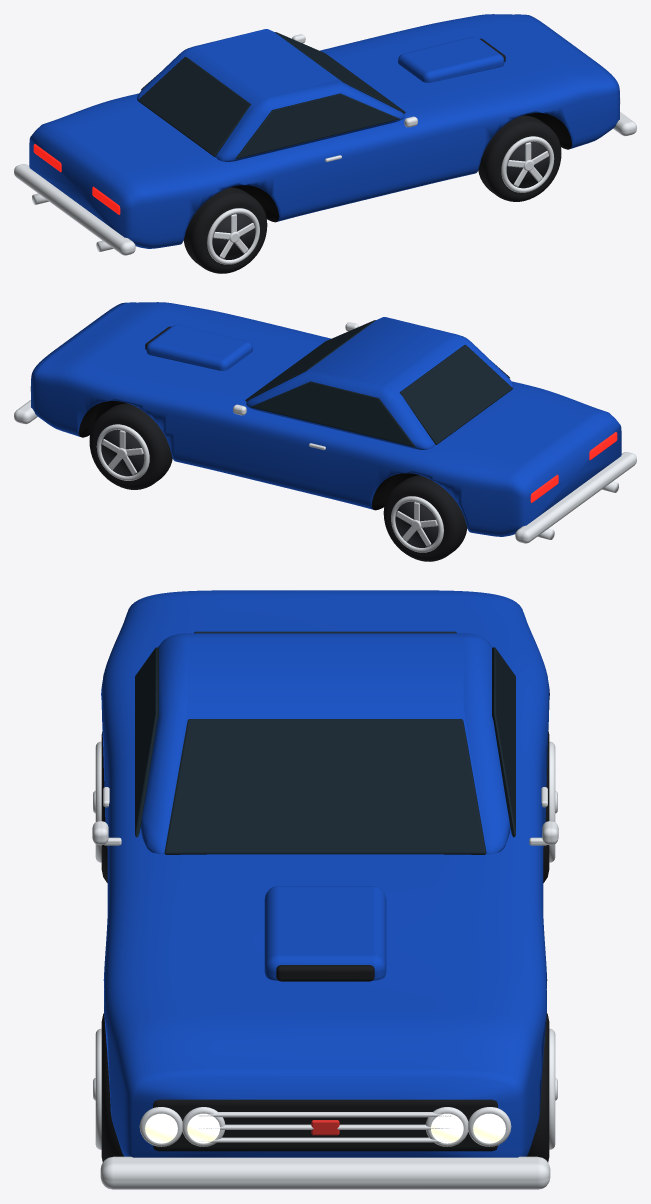
Rendered from car.glb.
The picture shows the model from 3 angles, top to bottom: view 1: azimuth 30°, elevation 25°; view 2: azimuth 150°, elevation 25°; view 3: azimuth 270°, elevation 25°; orthographic projection. The views are drawn at different scales.
Parts seen in each view (by area): view 1: Body, Cabin, RearWindow, SideWindowL, HoodScoop, Tire, Tire.002, RearBumper, Windshield, RimDish.002, RimDish, RimLip (+1 smaller); view 2: Body, Cabin, RearWindow, SideWindowR, HoodScoop, Tire.001, Tire.003, RearBumper, Windshield, RimDish.003, RimDish.001, RimLip.001 (+1 smaller); view 3: Body, Windshield, Cabin, FrontBumper, Grille, HoodScoop, SideWindowL, SideWindowR, ScoopMouth, Tire.002, Tire.003, GrilleBar2 (+4 smaller).
Part boxes in pixels (bbox=[...]): Body: bbox=[29, 14, 619, 248]; Cabin: bbox=[137, 29, 404, 161]; RearWindow: bbox=[138, 56, 251, 156]; SideWindowL: bbox=[235, 93, 399, 159]; HoodScoop: bbox=[398, 36, 504, 82]; Tire: bbox=[183, 187, 267, 273]; Tire.002: bbox=[478, 115, 561, 201]; RearBumper: bbox=[14, 164, 135, 255]; Windshield: bbox=[275, 32, 405, 113]; RimDish.002: bbox=[506, 141, 549, 188]; RimDish: bbox=[212, 213, 255, 259]; RimLip: bbox=[207, 208, 259, 264]; Body: bbox=[31, 302, 621, 536]; Cabin: bbox=[246, 317, 513, 449]; RearWindow: bbox=[399, 344, 512, 444]; SideWindowR: bbox=[251, 381, 415, 447]; HoodScoop: bbox=[146, 324, 252, 370]; Tire.001: bbox=[383, 475, 467, 561]; Tire.003: bbox=[89, 403, 172, 489]; RearBumper: bbox=[515, 452, 636, 543]; Windshield: bbox=[245, 320, 375, 401]; RimDish.003: bbox=[101, 429, 144, 476]; RimDish.001: bbox=[395, 501, 438, 547]; RimLip.001: bbox=[391, 496, 443, 552]; Body: bbox=[101, 590, 549, 1157]; Windshield: bbox=[164, 719, 486, 854]; Cabin: bbox=[140, 633, 510, 854]; FrontBumper: bbox=[100, 1156, 550, 1189]; Grille: bbox=[153, 1099, 497, 1151]; HoodScoop: bbox=[264, 886, 386, 980]; SideWindowL: bbox=[135, 647, 158, 837]; SideWindowR: bbox=[492, 647, 515, 837]; ScoopMouth: bbox=[276, 965, 374, 981]; Tire.002: bbox=[101, 1013, 123, 1162]; Tire.003: bbox=[527, 1013, 549, 1162]; GrilleBar2: bbox=[199, 1112, 450, 1117].
Bounding box in the file's own units: 5.09 × 1.4 × 1.99.
